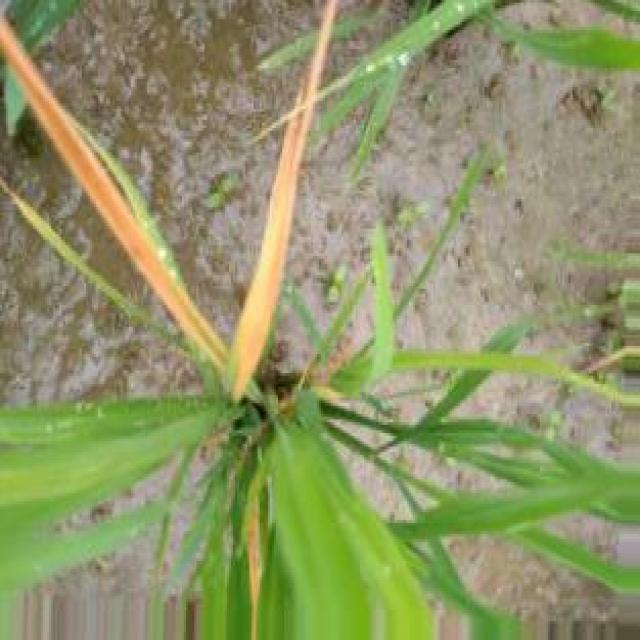Rice Tungro: (0, 1, 336, 401), (246, 498, 261, 638)
